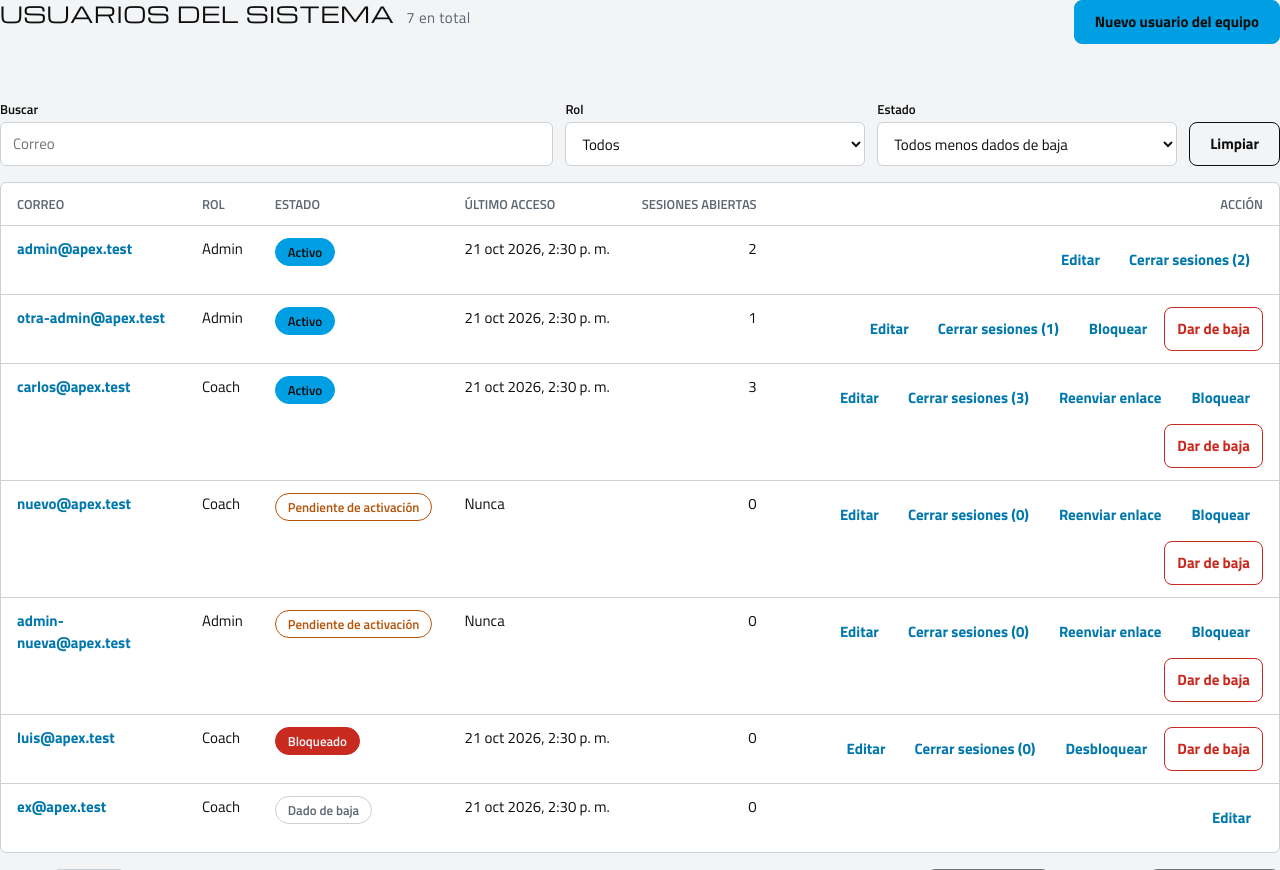
it: UsersPage · dar de baja (US-050) › 404 (otra persona ya la dio de baja) explica qué pasó y qué hacer
The width and height of the screenshot is (1280, 870).
Step 1. Click the 2nd button "Dar de baja" → (1214, 446), box left=1164, top=424, right=1263, bottom=468
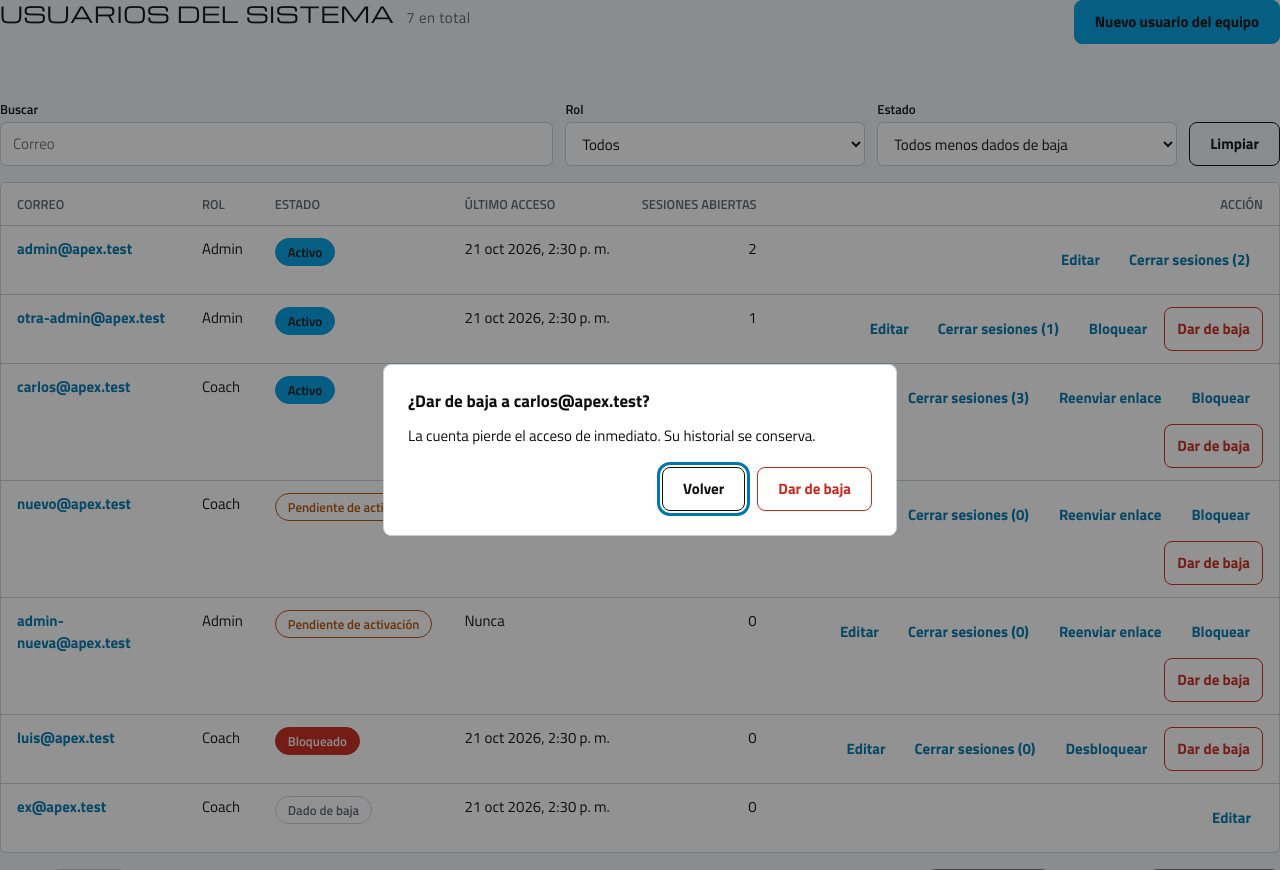
Step 2. Click the button "Dar de baja" → (815, 489), box left=757, top=467, right=872, bottom=511
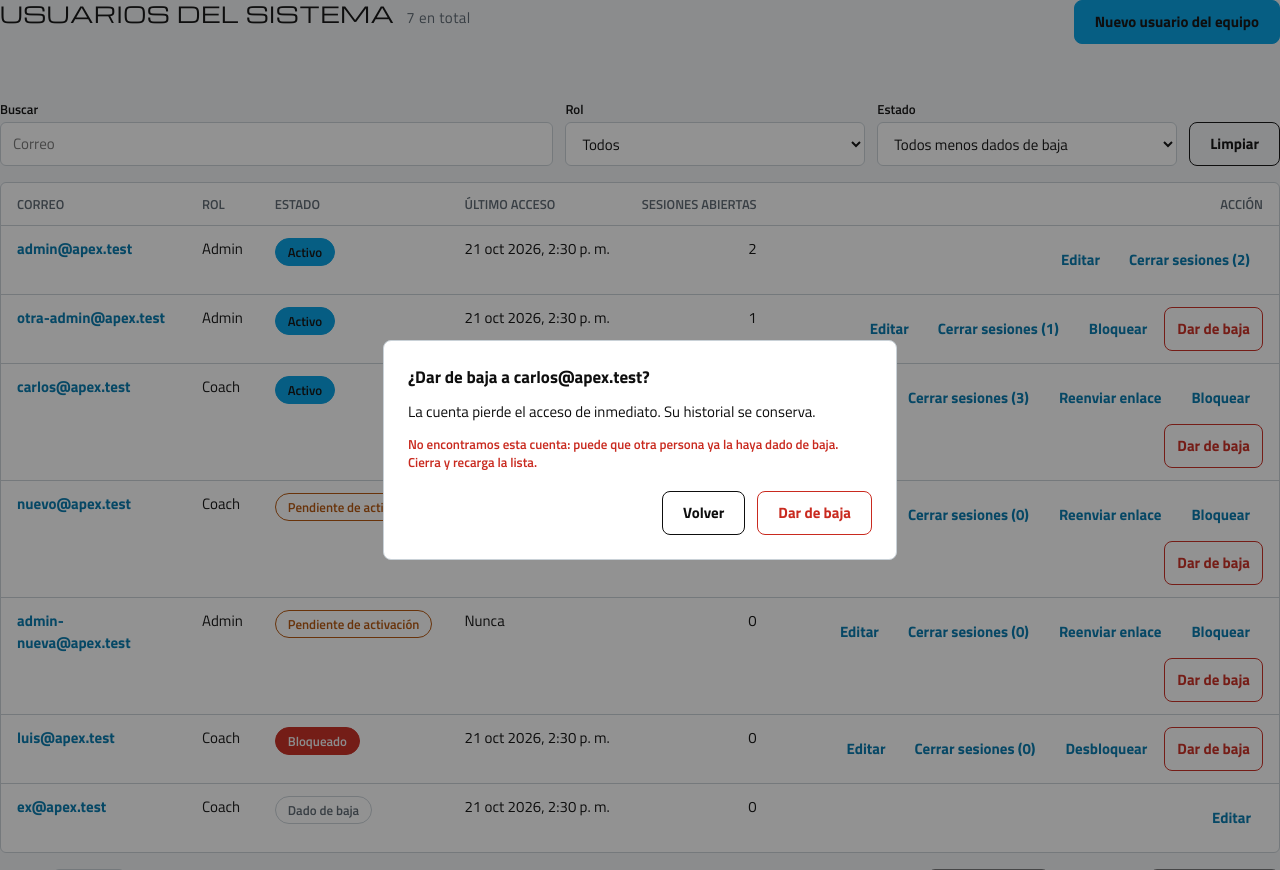
Expected: the message shows "No encontramos esta cuenta: puede que otra persona ya la haya dado de baja. Cierra y recarga la lista.", left=408, top=434, right=838, bottom=472
